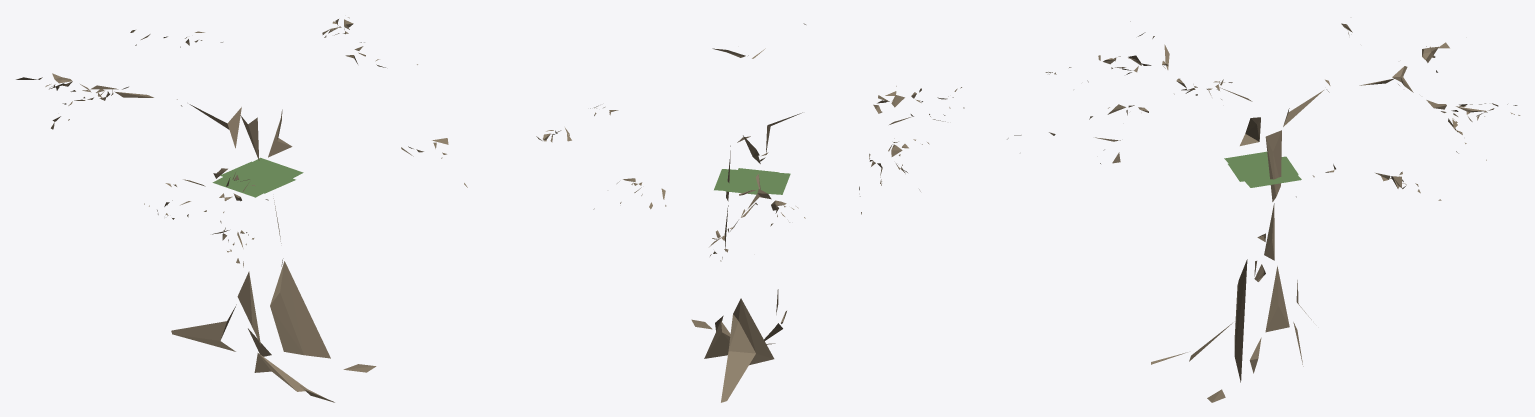
Rendered from stump_redwood_a.glb.
3 renders of one model, left to right at view 1: azimuth 30°, elevation 25°; view 2: azimuth 150°, elevation 25°; view 3: azimuth 270°, elevation 25°, orthographic. The views are drawn at different scales.
Visible parts, largest first — view 1: wood, leaves; view 2: wood, leaves; view 3: wood, leaves.
Boxes of the visible parts, x1,y1,x2,y2 form: wood: [16, 17, 467, 402]; leaves: [212, 157, 303, 197]; wood: [536, 23, 964, 402]; leaves: [714, 168, 790, 194]; wood: [1007, 21, 1520, 402]; leaves: [1224, 151, 1301, 187].
Bounding box in the file's own units: 1.93 × 1.34 × 2.4.
